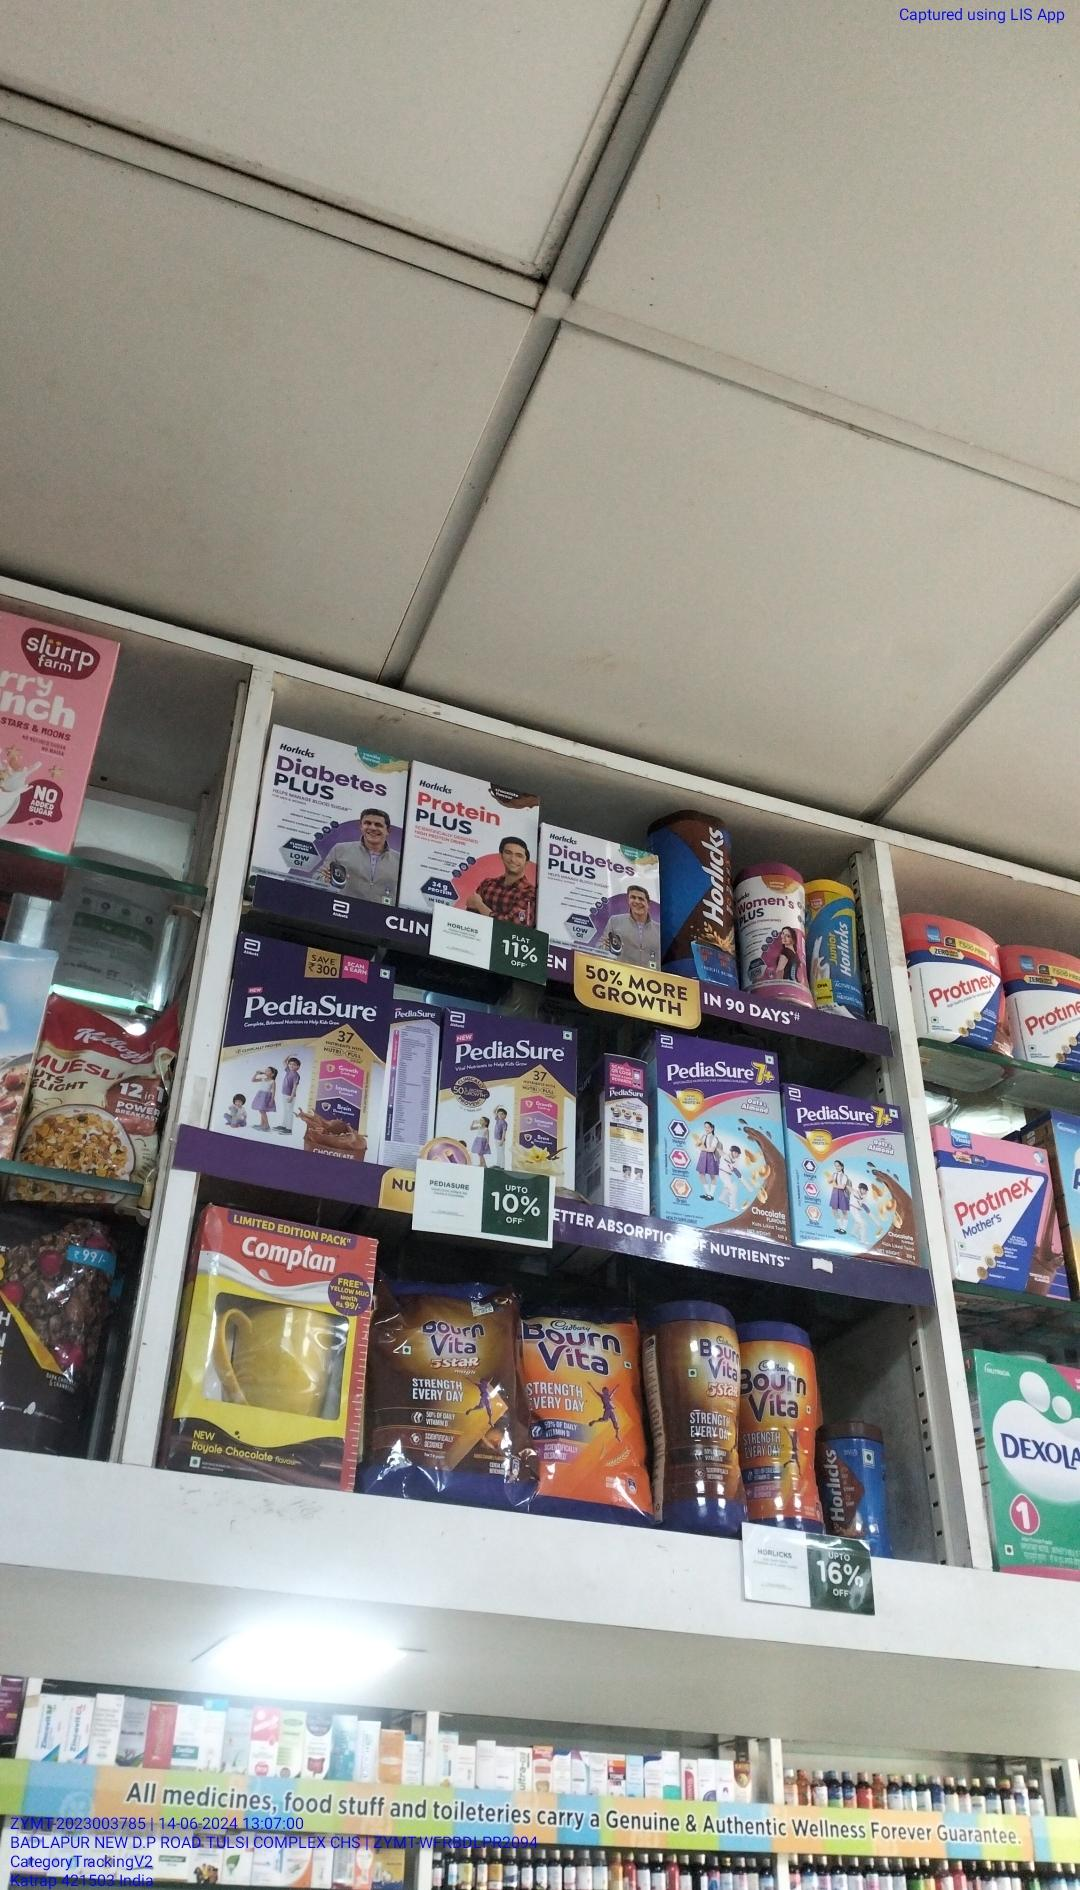BOURN_VITA_FIVE_STAR_MAGIC_500_G_JAR: (665, 1314, 741, 1524)
BOURN_VITA_FIVE_STAR_MAGIC_500_G_POUCH: (376, 1289, 517, 1499)
HORLICK_CHOCOLATE_1_KG_JAR: (679, 822, 731, 983)
PEDIASURE_7_PLUS_CHOCOLATE_400_G_PACK: (789, 1085, 919, 1268)
PEDIASURE_CHOCOLATE_500_G_PACK: (206, 946, 376, 1167)
PEDIASURE_VANILLA_500_G_PACK: (437, 1031, 576, 1171)
PROTINEX_CHOCOLATE_400_G_JAR: (906, 911, 1015, 1053)
